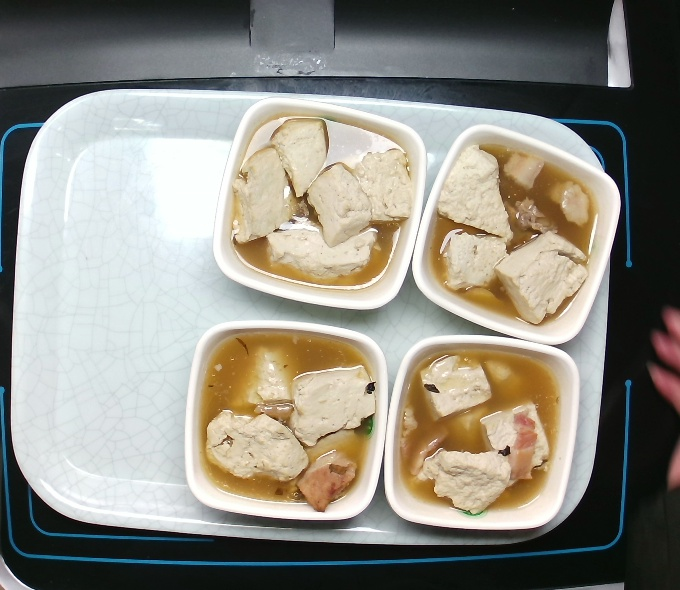wcq-DouFuRouTang: (218, 111, 416, 290), (195, 323, 382, 511), (426, 141, 603, 325), (385, 341, 567, 513)
